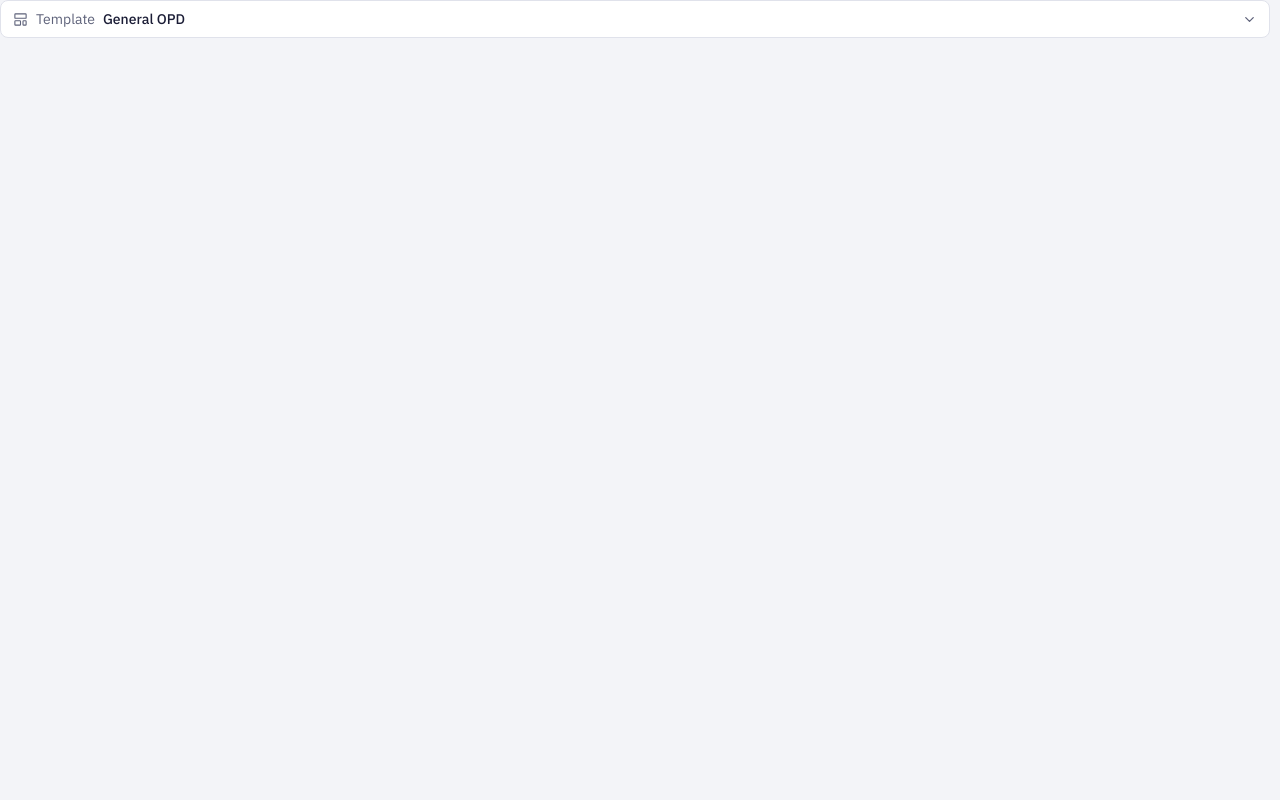
Test: TemplatePicker › shows recent templates first
The image size is (1280, 800).
Expected: the text "General OPD" is shown, x1=103 y1=10 x2=185 y2=28
Click the button at (65, 19), box x1=0 y1=0 x2=1270 y2=38
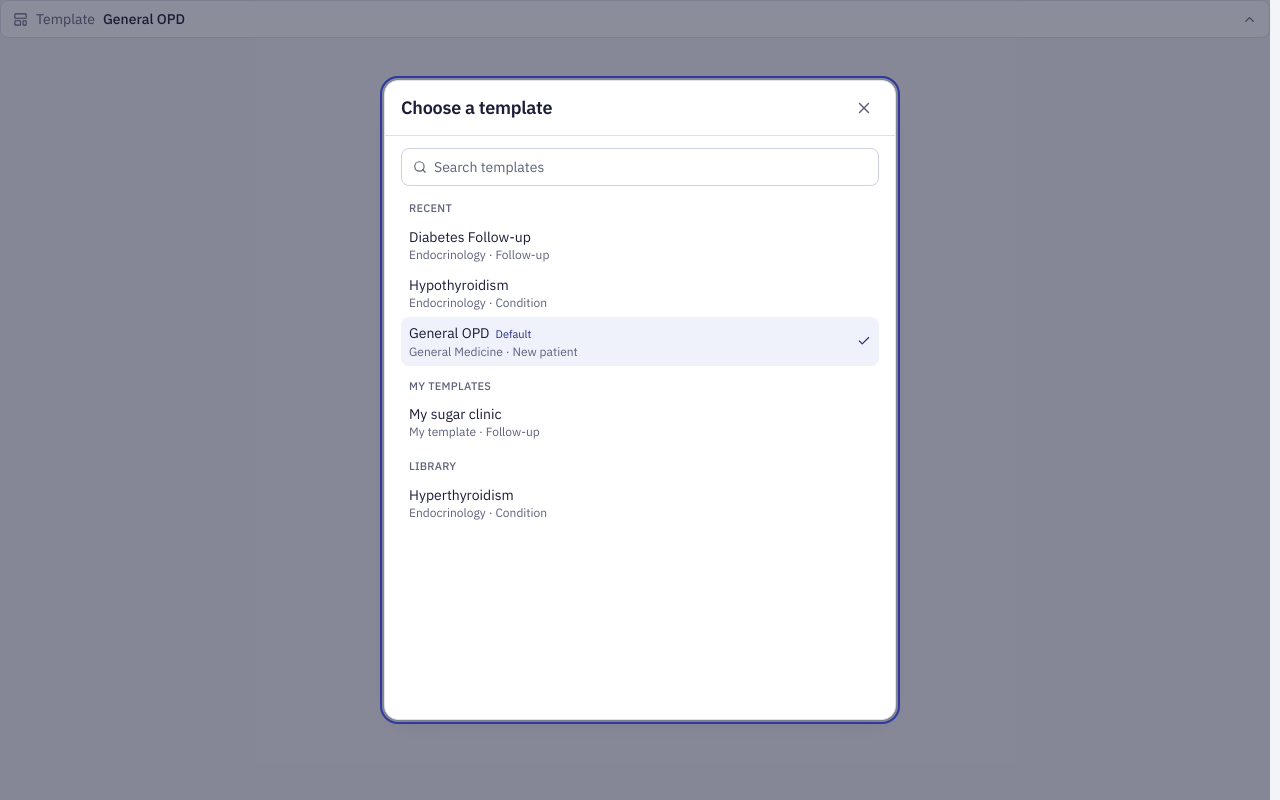
Expected: the text "Recent" is shown, x1=409 y1=201 x2=452 y2=215
